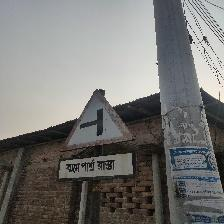Side-road-left: (60, 89, 135, 184)
